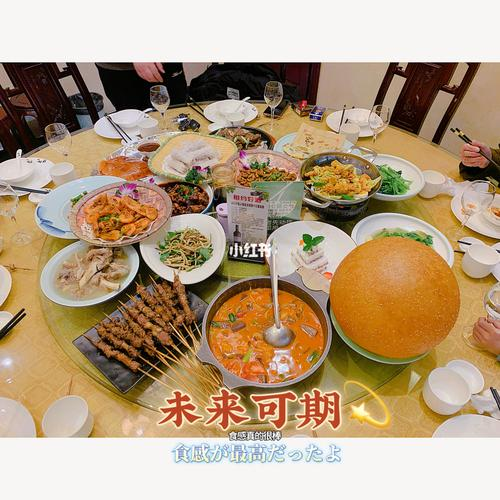food: (325, 224, 462, 360), (79, 271, 215, 391), (199, 270, 333, 387), (56, 172, 168, 245), (43, 234, 142, 305), (299, 138, 382, 220), (141, 207, 225, 279), (147, 130, 236, 194), (355, 215, 450, 264), (226, 143, 301, 187), (367, 152, 417, 199)
